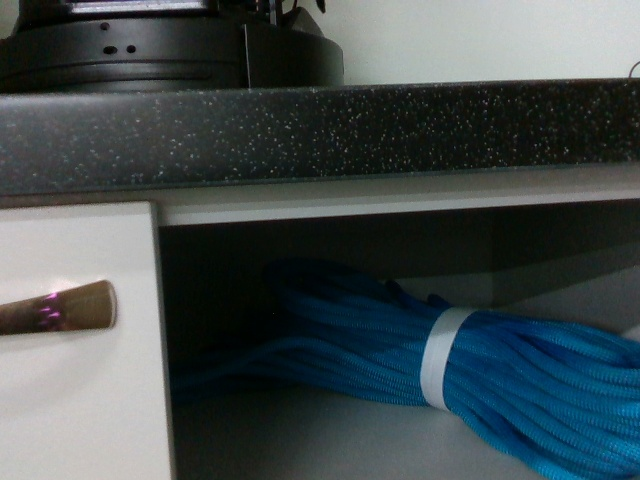rope: (328, 300, 640, 474)
